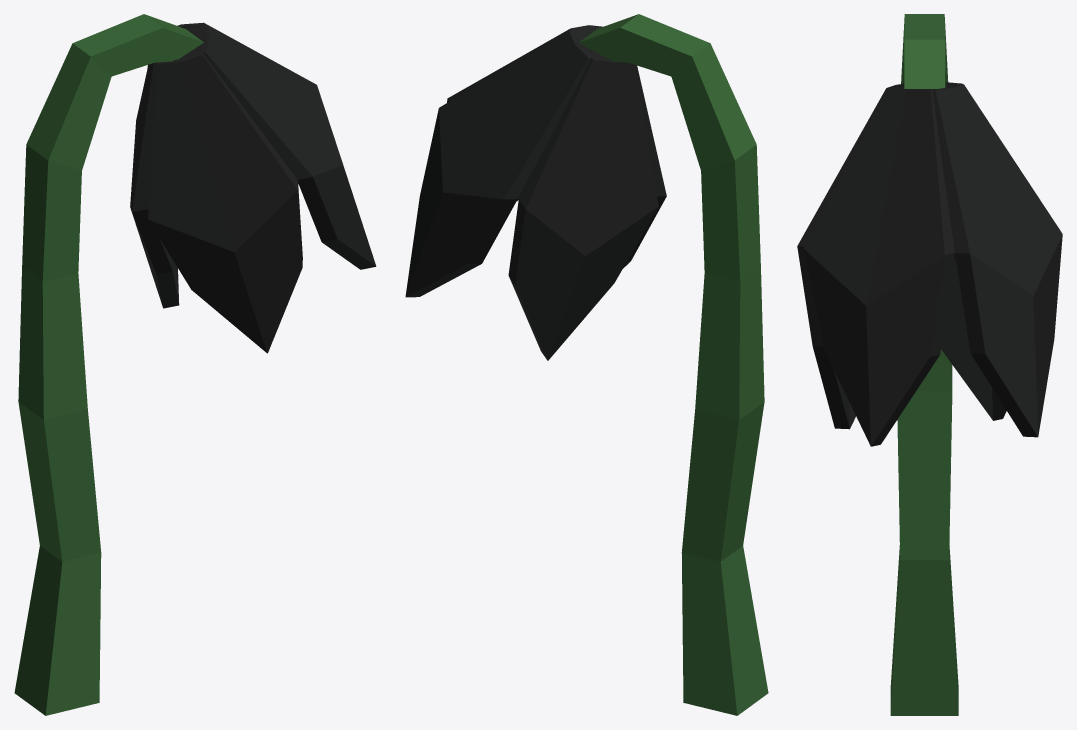
Rendered from Flower_3_Black.fbx.
3 views of the same model, side by side, from view 1: azimuth 30°, elevation 25°; view 2: azimuth 150°, elevation 25°; view 3: azimuth 270°, elevation 25° (orthographic). The views are drawn at different scales.
Visible parts, largest first — view 1: Flower_3_Black_Part_2, Flower_3_Black_Part_1; view 2: Flower_3_Black_Part_2, Flower_3_Black_Part_1; view 3: Flower_3_Black_Part_2, Flower_3_Black_Part_1.
Boxes of the visible parts, x1,y1,x2,y2 form: Flower_3_Black_Part_2: (130,22,376,353); Flower_3_Black_Part_1: (14,14,203,715); Flower_3_Black_Part_2: (405,25,666,360); Flower_3_Black_Part_1: (579,14,768,715); Flower_3_Black_Part_2: (797,82,1062,446); Flower_3_Black_Part_1: (890,14,958,715).
Size of the model in its own units: 20.43 by 39.65 by 13.38.
